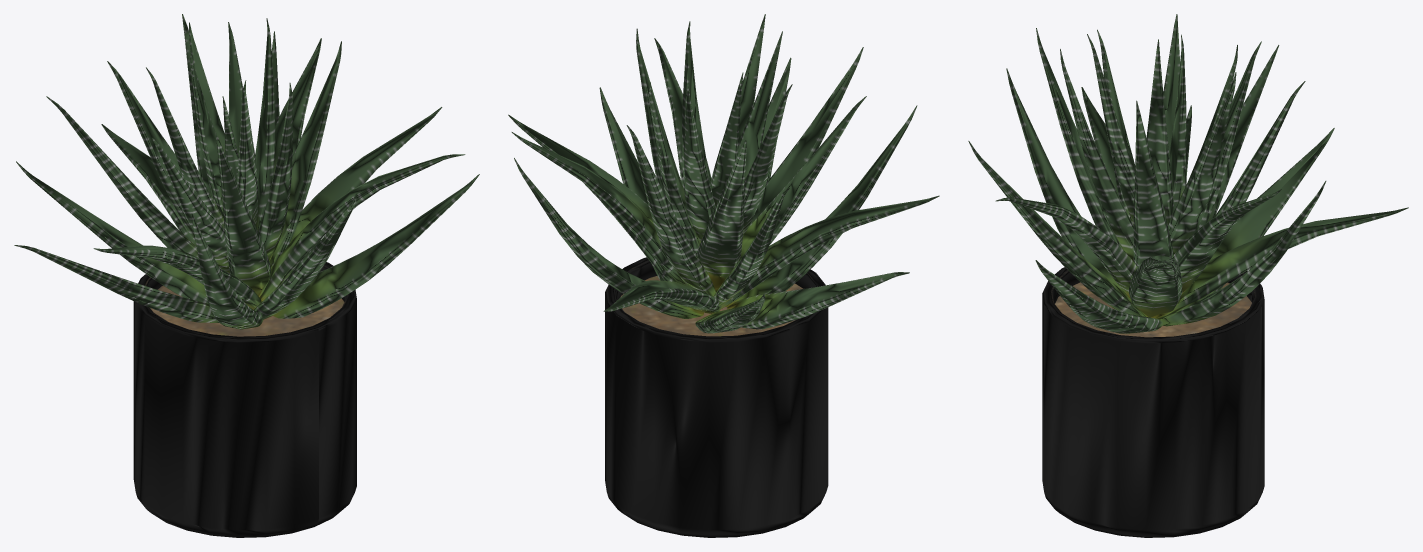
File: zebra-plant--haworthia-fasciata-9cf289.glb
3 views of the same model, side by side, from view 1: azimuth 30°, elevation 25°; view 2: azimuth 150°, elevation 25°; view 3: azimuth 270°, elevation 25° (orthographic).
Parts seen in each view (by area): view 1: PropMesh; view 2: PropMesh; view 3: PropMesh.
Part boxes in pixels (bbox=[...]): PropMesh: bbox=[14, 14, 479, 537]; PropMesh: bbox=[508, 14, 939, 537]; PropMesh: bbox=[968, 14, 1408, 537].
Bounding box in the file's own units: 0.1847 × 0.2 × 0.1705.
2 materials, 2 textured.
